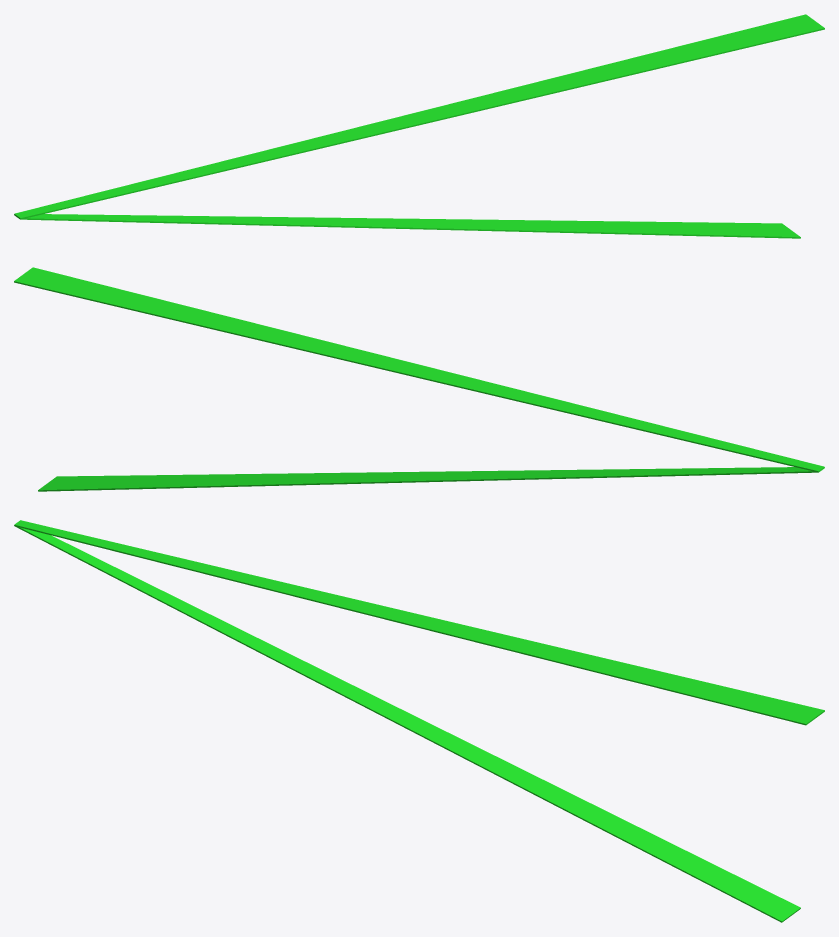
Rendered from rubber.glb.
3 renders of one model, top to bottom at view 1: azimuth 30°, elevation 25°; view 2: azimuth 150°, elevation 25°; view 3: azimuth 330°, elevation 25°, orthographic.
Parts seen in each view (by area): view 1: Plane, Plane.001; view 2: Plane, Plane.001; view 3: Plane.001, Plane.
Part boxes in pixels (x1,y1,x2,y2): Plane: [14, 14, 824, 218]; Plane.001: [14, 214, 800, 238]; Plane: [14, 267, 824, 471]; Plane.001: [38, 467, 824, 491]; Plane.001: [14, 525, 800, 922]; Plane: [14, 520, 824, 725].
Size of the model in its own units: 48.65 by 11.92 by 2.
